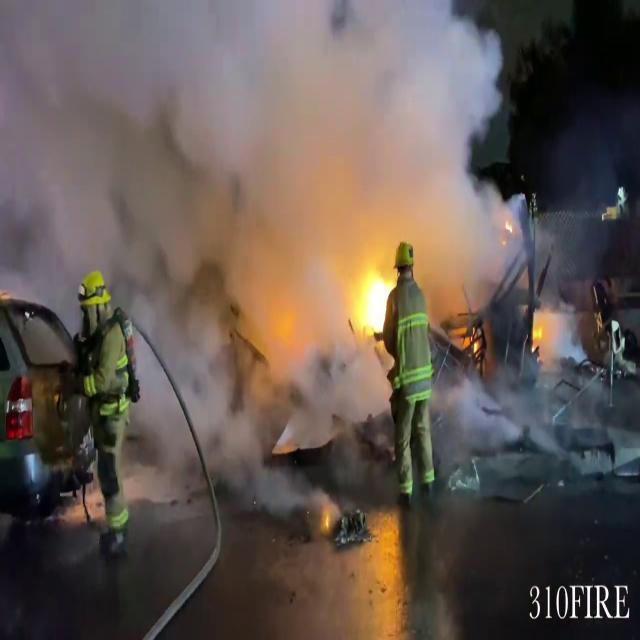Fire: (354, 252, 397, 342)
Smoke: (1, 0, 520, 336)
